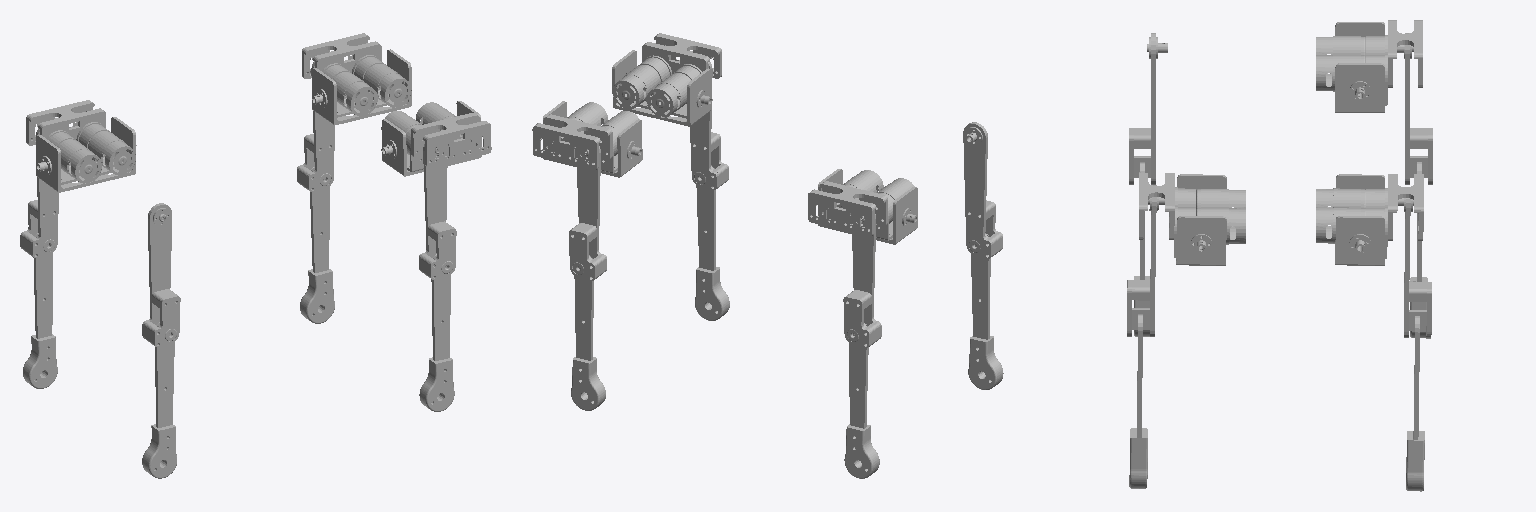
URDF robot description (Spot_dog):
<?xml version="1.0" encoding="utf-8"?>
<!-- This URDF was automatically created by SolidWorks to URDF Exporter! Originally created by Stephen Brawner ([email redacted]) 
     Commit Version: 1.6.0-1-g15f4949  Build Version: 1.6.7594.29634
     For more information, please see http://wiki.ros.org/sw_urdf_exporter -->
<robot
  name="Spot_dog">
  <link
    name="base_link">
    <inertial>
      <origin
        xyz="0.0023648970233455 -5.91786932781224E-06 -0.0142510828075821"
        rpy="0 0 0" />
      <mass
        value="1.26277058878881" />
      <inertia
        ixx="0.00419953664437585"
        ixy="-5.80918949636821E-09"
        ixz="7.23254112115332E-06"
        iyy="0.00329637735882426"
        iyz="5.41350065581859E-10"
        izz="0.00687786867050381" />
    </inertial>
    <visual>
      <origin
        xyz="0 0 0"
        rpy="0 0 0" />
      <geometry>
        <mesh
          filename="package://Spot_dog/meshes/base_link.STL" />
      </geometry>
      <material
        name="">
        <color
          rgba="0.752941176470588 0.752941176470588 0.752941176470588 1" />
      </material>
    </visual>
    <collision>
      <origin
        xyz="0 0 0"
        rpy="0 0 0" />
      <geometry>
        <mesh
          filename="package://Spot_dog/meshes/base_link.STL" />
      </geometry>
    </collision>
  </link>
  <link
    name="lidar_link">
    <inertial>
      <origin
        xyz="-0.00576993166002146 -0.000337492823115196 0.0144383216860659"
        rpy="0 0 0" />
      <mass
        value="0.142992069515117" />
      <inertia
        ixx="4.62768458751422E-05"
        ixy="-8.53425878441539E-07"
        ixz="-3.62176045397522E-06"
        iyy="7.34715191336753E-05"
        iyz="2.04241589925864E-07"
        izz="0.000107957357997996" />
    </inertial>
    <visual>
      <origin
        xyz="0 0 0"
        rpy="0 0 0" />
      <geometry>
        <mesh
          filename="package://Spot_dog/meshes/lidar_link.STL" />
      </geometry>
      <material
        name="">
        <color
          rgba="0.792156862745098 0.819607843137255 0.933333333333333 1" />
      </material>
    </visual>
    <collision>
      <origin
        xyz="0 0 0"
        rpy="0 0 0" />
      <geometry>
        <mesh
          filename="package://Spot_dog/meshes/lidar_link.STL" />
      </geometry>
    </collision>
  </link>
  <joint
    name="lidar_joint"
    type="fixed">
    <origin
      xyz="0 0 0"
      rpy="0 0 0" />
    <parent
      link="base_link" />
    <child
      link="lidar_link" />
    <axis
      xyz="0 0 0" />
  </joint>
  <link
    name="rf_hip_link">
    <inertial>
      <origin
        xyz="0.0494730376983106 -0.0150434281833299 0.00301418526737343"
        rpy="0 0 0" />
      <mass
        value="0.110796689932405" />
      <inertia
        ixx="4.10359142267942E-05"
        ixy="9.54808544037894E-10"
        ixz="-5.49776572209931E-10"
        iyy="0.00010573669451886"
        iyz="1.80269633038169E-06"
        izz="0.000105542554331478" />
    </inertial>
    <visual>
      <origin
        xyz="0 0 0"
        rpy="0 0 0" />
      <geometry>
        <mesh
          filename="package://Spot_dog/meshes/rf_hip_link.STL" />
      </geometry>
      <material
        name="">
        <color
          rgba="0.752941176470588 0.752941176470588 0.752941176470588 1" />
      </material>
    </visual>
    <collision>
      <origin
        xyz="0 0 0"
        rpy="0 0 0" />
      <geometry>
        <mesh
          filename="package://Spot_dog/meshes/rf_hip_link.STL" />
      </geometry>
    </collision>
  </link>
  <joint
    name="rf_hip_joint"
    type="continuous">
    <origin
      xyz="0.1325 -0.0798899999999921 -0.0342976400491808"
      rpy="0 0 0" />
    <parent
      link="base_link" />
    <child
      link="rf_hip_link" />
    <axis
      xyz="-1 0 0" />
  </joint>
  <link
    name="rf_upper_link">
    <inertial>
      <origin
        xyz="-0.00214105775503137 0.00718603950643993 -0.084916045491464"
        rpy="0 0 0" />
      <mass
        value="0.0381858196620344" />
      <inertia
        ixx="4.56120104484874E-05"
        ixy="-2.39464031883898E-08"
        ixz="-1.71517217998475E-06"
        iyy="4.75905522135306E-05"
        iyz="-6.28798951756866E-07"
        izz="2.56040064315188E-06" />
    </inertial>
    <visual>
      <origin
        xyz="0 0 0"
        rpy="0 0 0" />
      <geometry>
        <mesh
          filename="package://Spot_dog/meshes/rf_upper_link.STL" />
      </geometry>
      <material
        name="">
        <color
          rgba="0.752941176470588 0.752941176470588 0.752941176470588 1" />
      </material>
    </visual>
    <collision>
      <origin
        xyz="0 0 0"
        rpy="0 0 0" />
      <geometry>
        <mesh
          filename="package://Spot_dog/meshes/rf_upper_link.STL" />
      </geometry>
    </collision>
  </link>
  <joint
    name="rf_upper_joint"
    type="continuous">
    <origin
      xyz="0.0269999999999999 -0.0628123830812422 0.0138782034736232"
      rpy="0 0 0" />
    <parent
      link="rf_hip_link" />
    <child
      link="rf_upper_link" />
    <axis
      xyz="0 0.999902556615601 -0.0139598450415945" />
  </joint>
  <link
    name="rf_lower_link">
    <inertial>
      <origin
        xyz="-0.000566464370210601 0.0105757808206226 -0.0662793688967457"
        rpy="0 0 0" />
      <mass
        value="0.0165943030256523" />
      <inertia
        ixx="3.44656313832752E-05"
        ixy="-4.04206417526532E-09"
        ixz="-2.89521143738403E-07"
        iyy="3.50578354061526E-05"
        iyz="-4.80122859437164E-07"
        izz="6.74753139932614E-07" />
    </inertial>
    <visual>
      <origin
        xyz="0 0 0"
        rpy="0 0 0" />
      <geometry>
        <mesh
          filename="package://Spot_dog/meshes/rf_lower_link.STL" />
      </geometry>
      <material
        name="">
        <color
          rgba="0.752941176470588 0.752941176470588 0.752941176470588 1" />
      </material>
    </visual>
    <collision>
      <origin
        xyz="0 0 0"
        rpy="0 0 0" />
      <geometry>
        <mesh
          filename="package://Spot_dog/meshes/rf_lower_link.STL" />
      </geometry>
    </collision>
  </link>
  <joint
    name="rf_lower_joint"
    type="continuous">
    <origin
      xyz="0 -0.00994944374978339 -0.13957706811974"
      rpy="0 0 0" />
    <parent
      link="rf_upper_link" />
    <child
      link="rf_lower_link" />
    <axis
      xyz="0 0.999902556615601 -0.0139598450415923" />
  </joint>
  <link
    name="rf_foot_link">
    <inertial>
      <origin
        xyz="0.00182657432360098 0.00012873580444852 0.00922192075141315"
        rpy="0 0 0" />
      <mass
        value="0.0268070524008249" />
      <inertia
        ixx="8.14223140969403E-06"
        ixy="-1.16761875773851E-08"
        ixz="-8.3657918090591E-07"
        iyy="9.80933505912685E-06"
        iyz="-9.18662196588152E-08"
        izz="3.2302996475183E-06" />
    </inertial>
    <visual>
      <origin
        xyz="0 0 0"
        rpy="0 0 0" />
      <geometry>
        <mesh
          filename="package://Spot_dog/meshes/rf_foot_link.STL" />
      </geometry>
      <material
        name="">
        <color
          rgba="0.752941176470588 0.752941176470588 0.752941176470588 1" />
      </material>
    </visual>
    <collision>
      <origin
        xyz="0 0 0"
        rpy="0 0 0" />
      <geometry>
        <mesh
          filename="package://Spot_dog/meshes/rf_foot_link.STL" />
      </geometry>
    </collision>
  </link>
  <joint
    name="rf_foot_joint"
    type="fixed">
    <origin
      xyz="-0.0068961 0.0093242 -0.16309"
      rpy="0 0 0" />
    <parent
      link="rf_lower_link" />
    <child
      link="rf_foot_link" />
    <axis
      xyz="0 0 0" />
  </joint>
  <link
    name="rh_hip_link">
    <inertial>
      <origin
        xyz="-0.0490434208286332 -0.0122088506344063 0.00336723772986421"
        rpy="0 0 0" />
      <mass
        value="0.125134503525697" />
      <inertia
        ixx="4.20436047435917E-05"
        ixy="9.26208819046283E-10"
        ixz="9.15299288057387E-09"
        iyy="0.000106822835677305"
        iyz="1.8029796501442E-06"
        izz="0.000106637806266663" />
    </inertial>
    <visual>
      <origin
        xyz="0 0 0"
        rpy="0 0 0" />
      <geometry>
        <mesh
          filename="package://Spot_dog/meshes/rh_hip_link.STL" />
      </geometry>
      <material
        name="">
        <color
          rgba="0.752941176470588 0.752941176470588 0.752941176470588 1" />
      </material>
    </visual>
    <collision>
      <origin
        xyz="0 0 0"
        rpy="0 0 0" />
      <geometry>
        <mesh
          filename="package://Spot_dog/meshes/rh_hip_link.STL" />
      </geometry>
    </collision>
  </link>
  <joint
    name="rh_hip_joint"
    type="continuous">
    <origin
      xyz="-0.1325 -0.07989 -0.034298"
      rpy="0 0 0" />
    <parent
      link="base_link" />
    <child
      link="rh_hip_link" />
    <axis
      xyz="-1 0 0" />
  </joint>
  <link
    name="rh_upper_link">
    <inertial>
      <origin
        xyz="-0.00214105772880144 0.00837075421052934 -0.0848074541012483"
        rpy="0 0 0" />
      <mass
        value="0.0381858200550615" />
      <inertia
        ixx="4.56120104509481E-05"
        ixy="-5.31957908588008E-13"
        ixz="-1.71533933666234E-06"
        iyy="4.75993310281756E-05"
        iyz="-1.1924207497845E-12"
        izz="2.55162184449551E-06" />
    </inertial>
    <visual>
      <origin
        xyz="0 0 0"
        rpy="0 0 0" />
      <geometry>
        <mesh
          filename="package://Spot_dog/meshes/rh_upper_link.STL" />
      </geometry>
      <material
        name="">
        <color
          rgba="0.752941176470588 0.752941176470588 0.752941176470588 1" />
      </material>
    </visual>
    <collision>
      <origin
        xyz="0 0 0"
        rpy="0 0 0" />
      <geometry>
        <mesh
          filename="package://Spot_dog/meshes/rh_upper_link.STL" />
      </geometry>
    </collision>
  </link>
  <joint
    name="rh_upper_joint"
    type="continuous">
    <origin
      xyz="-0.0719999999999999 -0.0630000000000001 0.013"
      rpy="0 0 0" />
    <parent
      link="rh_hip_link" />
    <child
      link="rh_upper_link" />
    <axis
      xyz="0 1 0" />
  </joint>
  <link
    name="rh_lower_link">
    <inertial>
      <origin
        xyz="-0.000566464370210656 0.0115 -0.0661252741492748"
        rpy="0 0 0" />
      <mass
        value="0.0165943030256523" />
      <inertia
        ixx="3.44656313832751E-05"
        ixy="-2.11389225358822E-23"
        ixz="-2.89549358407837E-07"
        iyy="3.50645385000434E-05"
        iyz="-3.9261842528959E-21"
        izz="6.68050046041789E-07" />
    </inertial>
    <visual>
      <origin
        xyz="0 0 0"
        rpy="0 0 0" />
      <geometry>
        <mesh
          filename="package://Spot_dog/meshes/rh_lower_link.STL" />
      </geometry>
      <material
        name="">
        <color
          rgba="0.752941176470588 0.752941176470588 0.752941176470588 1" />
      </material>
    </visual>
    <collision>
      <origin
        xyz="0 0 0"
        rpy="0 0 0" />
      <geometry>
        <mesh
          filename="package://Spot_dog/meshes/rh_lower_link.STL" />
      </geometry>
    </collision>
  </link>
  <joint
    name="rh_lower_joint"
    type="continuous">
    <origin
      xyz="0 -0.00799999999999998 -0.139702359950835"
      rpy="0 0 0" />
    <parent
      link="rh_upper_link" />
    <child
      link="rh_lower_link" />
    <axis
      xyz="0 1 0" />
  </joint>
  <link
    name="rh_foot_link">
    <inertial>
      <origin
        xyz="0.00182657432167069 -1.33204328262027E-08 0.00922281925671403"
        rpy="0 0 0" />
      <mass
        value="0.0268070523816171" />
      <inertia
        ixx="8.14223141565473E-06"
        ixy="3.46629055178195E-12"
        ixz="-8.36660669706648E-07"
        iyy="9.81061759238105E-06"
        iyz="2.96214288334531E-12"
        izz="3.22901712426114E-06" />
    </inertial>
    <visual>
      <origin
        xyz="0 0 0"
        rpy="0 0 0" />
      <geometry>
        <mesh
          filename="package://Spot_dog/meshes/rh_foot_link.STL" />
      </geometry>
      <material
        name="">
        <color
          rgba="0.752941176470588 0.752941176470588 0.752941176470588 1" />
      </material>
    </visual>
    <collision>
      <origin
        xyz="0 0 0"
        rpy="0 0 0" />
      <geometry>
        <mesh
          filename="package://Spot_dog/meshes/rh_foot_link.STL" />
      </geometry>
    </collision>
  </link>
  <joint
    name="rh_foot_joint"
    type="fixed">
    <origin
      xyz="-0.0068961 0.0116 -0.16295"
      rpy="0 0 0" />
    <parent
      link="rh_lower_link" />
    <child
      link="rh_foot_link" />
    <axis
      xyz="0 0 0" />
  </joint>
  <link
    name="lf_hip_link">
    <inertial>
      <origin
        xyz="0.0495269622868717 0.0151217121138406 0.00259304376253863"
        rpy="0 0 0" />
      <mass
        value="0.110796689886985" />
      <inertia
        ixx="4.10359142199375E-05"
        ixy="9.69729499828462E-10"
        ixz="5.2287739474738E-10"
        iyy="0.000105636298090407"
        iyz="-1.805477813767E-06"
        izz="0.00010564295073898" />
    </inertial>
    <visual>
      <origin
        xyz="0 0 0"
        rpy="0 0 0" />
      <geometry>
        <mesh
          filename="package://Spot_dog/meshes/lf_hip_link.STL" />
      </geometry>
      <material
        name="">
        <color
          rgba="0.752941176470588 0.752941176470588 0.752941176470588 1" />
      </material>
    </visual>
    <collision>
      <origin
        xyz="0 0 0"
        rpy="0 0 0" />
      <geometry>
        <mesh
          filename="package://Spot_dog/meshes/lf_hip_link.STL" />
      </geometry>
    </collision>
  </link>
  <joint
    name="lf_hip_axis"
    type="continuous">
    <origin
      xyz="0.1325 0.07989 -0.034298"
      rpy="0 0 0" />
    <parent
      link="base_link" />
    <child
      link="lf_hip_link" />
    <axis
      xyz="1 0 0" />
  </joint>
  <link
    name="lf_upper_link">
    <inertial>
      <origin
        xyz="-0.00214102966052523 -0.00955383710019805 -0.0846823076197817"
        rpy="0 0 0" />
      <mass
        value="0.0381858201318091" />
      <inertia
        ixx="4.56120134594677E-05"
        ixy="-2.39468983332409E-08"
        ixz="-1.71516304037832E-06"
        iyy="4.75905522326161E-05"
        iyz="-6.28798317008029E-07"
        izz="2.56039762142872E-06" />
    </inertial>
    <visual>
      <origin
        xyz="0 0 0"
        rpy="0 0 0" />
      <geometry>
        <mesh
          filename="package://Spot_dog/meshes/lf_upper_link.STL" />
      </geometry>
      <material
        name="">
        <color
          rgba="0.752941176470588 0.752941176470588 0.752941176470588 1" />
      </material>
    </visual>
    <collision>
      <origin
        xyz="0 0 0"
        rpy="0 0 0" />
      <geometry>
        <mesh
          filename="package://Spot_dog/meshes/lf_upper_link.STL" />
      </geometry>
    </collision>
  </link>
  <joint
    name="lf_upper_joint"
    type="continuous">
    <origin
      xyz="0.0270000000000001 0.063175339052324 0.0121192629983798"
      rpy="0 0 0" />
    <parent
      link="lf_hip_link" />
    <child
      link="lf_upper_link" />
    <axis
      xyz="0 0.9999025566156 -0.013959845041636" />
  </joint>
  <link
    name="lf_lower_link">
    <inertial>
      <origin
        xyz="0.000566464370210767 -0.0124219779815389 -0.0659582924607887"
        rpy="0 0 0" />
      <mass
        value="0.0165943030256523" />
      <inertia
        ixx="3.44656313832751E-05"
        ixy="4.04206417528083E-09"
        ixz="2.8952114373848E-07"
        iyy="3.50578354061525E-05"
        iyz="-4.80122859438591E-07"
        izz="6.74753139932655E-07" />
    </inertial>
    <visual>
      <origin
        xyz="0 0 0"
        rpy="0 0 0" />
      <geometry>
        <mesh
          filename="package://Spot_dog/meshes/lf_lower_link.STL" />
      </geometry>
      <material
        name="">
        <color
          rgba="0.752941176470588 0.752941176470588 0.752941176470588 1" />
      </material>
    </visual>
    <collision>
      <origin
        xyz="0 0 0"
        rpy="0 0 0" />
      <geometry>
        <mesh
          filename="package://Spot_dog/meshes/lf_lower_link.STL" />
      </geometry>
    </collision>
  </link>
  <joint
    name="lf_lower_joint"
    type="continuous">
    <origin
      xyz="0 0.00604899715606039 -0.139800425640405"
      rpy="0 0 0" />
    <parent
      link="lf_upper_link" />
    <child
      link="lf_lower_link" />
    <axis
      xyz="0 0.9999025566156 -0.0139598450416295" />
  </joint>
  <link
    name="lf_foot_link">
    <inertial>
      <origin
        xyz="0.00166830267498227 0.00012915397284563 0.00925185669905187"
        rpy="0 0 0" />
      <mass
        value="0.0268070520994839" />
      <inertia
        ixx="8.16945220932775E-06"
        ixy="-1.04945502254447E-08"
        ixz="-7.51936634681799E-07"
        iyy="9.80932980569996E-06"
        iyz="-9.22462199885692E-08"
        izz="3.20308414406131E-06" />
    </inertial>
    <visual>
      <origin
        xyz="0 0 0"
        rpy="0 0 0" />
      <geometry>
        <mesh
          filename="package://Spot_dog/meshes/lf_foot_link.STL" />
      </geometry>
      <material
        name="">
        <color
          rgba="0.752941176470588 0.752941176470588 0.752941176470588 1" />
      </material>
    </visual>
    <collision>
      <origin
        xyz="0 0 0"
        rpy="0 0 0" />
      <geometry>
        <mesh
          filename="package://Spot_dog/meshes/lf_foot_link.STL" />
      </geometry>
    </collision>
  </link>
  <joint
    name="lf_foot_joint"
    type="fixed">
    <origin
      xyz="-0.00410350448816377 -0.0138748986174382 -0.162863312134045"
      rpy="0 0 0" />
    <parent
      link="lf_lower_link" />
    <child
      link="lf_foot_link" />
    <axis
      xyz="0 0 0" />
  </joint>
  <link
    name="lh_hip_link">
    <inertial>
      <origin
        xyz="-0.0494730377009781 0.0150840399972 0.00280388758452487"
        rpy="0 0 0" />
      <mass
        value="0.110796690015489" />
      <inertia
        ixx="4.10359143914821E-05"
        ixy="9.62413318054843E-10"
        ixz="5.35910546574112E-10"
        iyy="0.000105686627480097"
        iyz="-1.80445846591125E-06"
        izz="0.000105592621445254" />
    </inertial>
    <visual>
      <origin
        xyz="0 0 0"
        rpy="0 0 0" />
      <geometry>
        <mesh
          filename="package://Spot_dog/meshes/lh_hip_link.STL" />
      </geometry>
      <material
        name="">
        <color
          rgba="0.752941176470588 0.752941176470588 0.752941176470588 1" />
      </material>
    </visual>
    <collision>
      <origin
        xyz="0 0 0"
        rpy="0 0 0" />
      <geometry>
        <mesh
          filename="package://Spot_dog/meshes/lh_hip_link.STL" />
      </geometry>
    </collision>
  </link>
  <joint
    name="lh_hip_joint"
    type="continuous">
    <origin
      xyz="-0.1325 0.0798899999999998 -0.0342976400491648"
      rpy="0 0 0" />
    <parent
      link="base_link" />
    <child
      link="lh_hip_link" />
    <axis
      xyz="1 0 0" />
  </joint>
  <link
    name="lh_upper_link">
    <inertial>
      <origin
        xyz="-0.00214102966159083 -0.00837075417213326 -0.084807426154219"
        rpy="0 0 0" />
      <mass
        value="0.0381858200550616" />
      <inertia
        ixx="4.5612013465939E-05"
        ixy="-1.15444746288946E-12"
        ixz="-1.7153302049211E-06"
        iyy="4.75993310281756E-05"
        iyz="-5.14326205635436E-13"
        izz="2.55161882950459E-06" />
    </inertial>
    <visual>
      <origin
        xyz="0 0 0"
        rpy="0 0 0" />
      <geometry>
        <mesh
          filename="package://Spot_dog/meshes/lh_upper_link.STL" />
      </geometry>
      <material
        name="">
        <color
          rgba="0.752941176470588 0.752941176470588 0.752941176470588 1" />
      </material>
    </visual>
    <collision>
      <origin
        xyz="0 0 0"
        rpy="0 0 0" />
      <geometry>
        <mesh
          filename="package://Spot_dog/meshes/lh_upper_link.STL" />
      </geometry>
    </collision>
  </link>
  <joint
    name="lh_upper_joint"
    type="continuous">
    <origin
      xyz="-0.072 0.0630000000000001 0.0130000000000001"
      rpy="0 0 0" />
    <parent
      link="lh_hip_link" />
    <child
      link="lh_upper_link" />
    <axis
      xyz="0 1 0" />
  </joint>
  <link
    name="lh_lower_link">
    <inertial>
      <origin
        xyz="0.000566464370210823 -0.0115 -0.0661252741492749"
        rpy="0 0 0" />
      <mass
        value="0.0165943030256523" />
      <inertia
        ixx="3.44656313832752E-05"
        ixy="8.98930417878199E-23"
        ixz="2.89549358407913E-07"
        iyy="3.50645385000434E-05"
        iyz="-6.05251913313224E-21"
        izz="6.68050046041791E-07" />
    </inertial>
    <visual>
      <origin
        xyz="0 0 0"
        rpy="0 0 0" />
      <geometry>
        <mesh
          filename="package://Spot_dog/meshes/lh_lower_link.STL" />
      </geometry>
      <material
        name="">
        <color
          rgba="0.752941176470588 0.752941176470588 0.752941176470588 1" />
      </material>
    </visual>
    <collision>
      <origin
        xyz="0 0 0"
        rpy="0 0 0" />
      <geometry>
        <mesh
          filename="package://Spot_dog/meshes/lh_lower_link.STL" />
      </geometry>
    </collision>
  </link>
  <joint
    name="lh_lower_joint"
    type="continuous">
    <origin
      xyz="0 0.00799999999999995 -0.139702359950834"
      rpy="0 0 0" />
    <parent
      link="lh_upper_link" />
    <child
      link="lh_lower_link" />
    <axis
      xyz="0 1 0" />
  </joint>
  <link
    name="lh_foot_link">
    <inertial>
      <origin
        xyz="0.00166830267317924 -1.30935577657976E-08 0.00925275812454851"
        rpy="0 0 0" />
      <mass
        value="0.0268070520797913" />
      <inertia
        ixx="8.1694522156077E-06"
        ixy="3.39146873062132E-12"
        ixz="-7.52009876424456E-07"
        iyy="9.8106176449227E-06"
        iyz="2.92422848968183E-12"
        izz="3.20179631466342E-06" />
    </inertial>
    <visual>
      <origin
        xyz="0 0 0"
        rpy="0 0 0" />
      <geometry>
        <mesh
          filename="package://Spot_dog/meshes/lh_foot_link.STL" />
      </geometry>
      <material
        name="">
        <color
          rgba="0.752941176470588 0.752941176470588 0.752941176470588 1" />
      </material>
    </visual>
    <collision>
      <origin
        xyz="0 0 0"
        rpy="0 0 0" />
      <geometry>
        <mesh
          filename="package://Spot_dog/meshes/lh_foot_link.STL" />
      </geometry>
    </collision>
  </link>
  <joint
    name="lh_foot_joint"
    type="fixed">
    <origin
      xyz="-0.0041035 -0.0116 -0.16304"
      rpy="0 0 0" />
    <parent
      link="lh_lower_link" />
    <child
      link="lh_foot_link" />
    <axis
      xyz="0 0 0" />
  </joint>
</robot>

--- Facts derived from the render (not from the file) ---
3 views of the same robot in one strip: view 1: azimuth 30°, elevation 25°; view 2: azimuth 150°, elevation 25°; view 3: azimuth 270°, elevation 25° (orthographic).
Model Spot_dog with 18 links and 17 joints (12 continuous, 5 fixed), rooted at base_link, posed every joint at zero.
Visible links, largest first — view 1: lh_hip_link, lf_hip_link, rf_hip_link, rh_upper_link, rf_upper_link, lf_upper_link, lh_upper_link, lf_lower_link, rf_lower_link, rh_lower_link, lh_lower_link, lf_foot_link (+3 smaller); view 2: rf_hip_link, lh_hip_link, lf_hip_link, rh_upper_link, lf_upper_link, lh_upper_link, rf_upper_link, lh_lower_link, rh_lower_link, rf_lower_link, lf_lower_link, lh_foot_link (+3 smaller); view 3: lf_hip_link, rf_hip_link, lh_hip_link, rh_upper_link, rf_upper_link, lf_upper_link, lh_upper_link, rf_foot_link, lf_foot_link, lf_lower_link, rf_lower_link.
Boxes of the visible links, left/top/right/bottom form: lh_hip_link: left=26, top=100, right=136, bottom=192; lf_hip_link: left=302, top=33, right=411, bottom=124; rf_hip_link: left=381, top=101, right=491, bottom=176; rh_upper_link: left=142, top=203, right=180, bottom=346; rf_upper_link: left=419, top=144, right=456, bottom=279; lf_upper_link: left=297, top=61, right=334, bottom=191; lh_upper_link: left=20, top=128, right=58, bottom=257; lf_lower_link: left=310, top=167, right=329, bottom=272; rf_lower_link: left=431, top=255, right=450, bottom=360; rh_lower_link: left=155, top=323, right=174, bottom=427; lh_lower_link: left=33, top=233, right=52, bottom=338; lf_foot_link: left=300, top=269, right=334, bottom=323; rf_hip_link: left=612, top=33, right=721, bottom=126; lh_hip_link: left=808, top=169, right=917, bottom=244; lf_hip_link: left=532, top=101, right=642, bottom=177; rh_upper_link: left=963, top=122, right=1002, bottom=258; lf_upper_link: left=569, top=146, right=606, bottom=280; lh_upper_link: left=843, top=214, right=881, bottom=347; rf_upper_link: left=690, top=62, right=728, bottom=189; lh_lower_link: left=849, top=323, right=868, bottom=428; rh_lower_link: left=971, top=234, right=990, bottom=339; rf_lower_link: left=696, top=166, right=715, bottom=270; lf_lower_link: left=574, top=256, right=593, bottom=360; lh_foot_link: left=844, top=424, right=879, bottom=478; lf_hip_link: left=1316, top=174, right=1423, bottom=265; rf_hip_link: left=1139, top=172, right=1245, bottom=265; lh_hip_link: left=1316, top=20, right=1422, bottom=112; rh_upper_link: left=1129, top=33, right=1167, bottom=184; rf_upper_link: left=1127, top=185, right=1164, bottom=336; lf_upper_link: left=1398, top=198, right=1431, bottom=338; lh_upper_link: left=1397, top=33, right=1432, bottom=184; rf_foot_link: left=1129, top=428, right=1147, bottom=488; lf_foot_link: left=1406, top=431, right=1424, bottom=491; lf_lower_link: left=1413, top=316, right=1419, bottom=439; rf_lower_link: left=1137, top=314, right=1142, bottom=437.
Bounding box of the posed robot: 0.491 × 0.3087 × 0.3465 m (x, y, z).
Meshes: 18 distinct files referenced, 15 mesh visuals loaded (15 binary STL); not drawn: 3 (reference not matched to a file when rendering).
